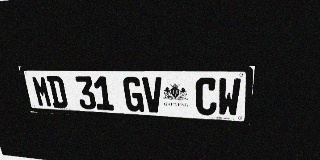1: (92, 76, 114, 110)
3: (75, 76, 97, 110)
C: (196, 77, 218, 116)
D: (46, 76, 68, 108)
G: (122, 77, 144, 112)
M: (31, 76, 53, 107)
V: (142, 77, 163, 113)
W: (217, 78, 241, 117)
